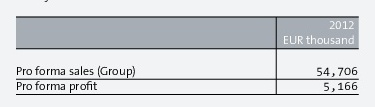table: (0, 0, 375, 107)
